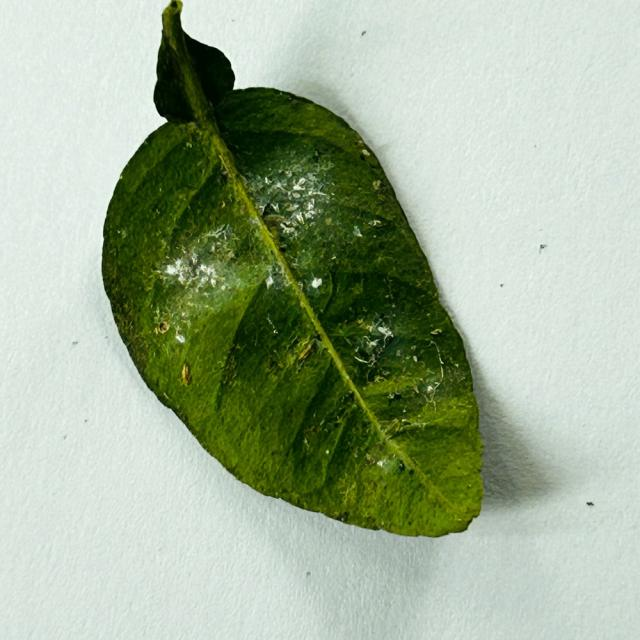Bacterial_Blight: (366, 439, 406, 470), (161, 1, 183, 25), (297, 341, 316, 362), (224, 358, 237, 380), (180, 365, 192, 387), (154, 320, 171, 335), (217, 154, 228, 168), (283, 224, 296, 235), (365, 453, 376, 465), (312, 277, 322, 288), (353, 227, 363, 237), (430, 328, 443, 335), (538, 244, 547, 254), (175, 334, 185, 343), (360, 149, 369, 159), (296, 214, 305, 224), (221, 166, 228, 177), (178, 277, 186, 286), (117, 229, 125, 237), (219, 201, 226, 209), (388, 392, 396, 399), (216, 276, 224, 283), (163, 392, 170, 400), (154, 327, 160, 335), (292, 190, 300, 196), (188, 301, 196, 307), (358, 140, 365, 146), (264, 177, 270, 184), (586, 501, 594, 506), (186, 142, 192, 148), (456, 517, 463, 521), (119, 175, 123, 180)
Lemon: (100, 0, 485, 541)
